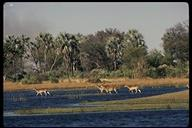antelope: (29, 84, 52, 99), (123, 82, 143, 93), (99, 83, 118, 94)
sky: (5, 4, 188, 22)
tree: (6, 33, 34, 80), (35, 30, 58, 77), (104, 35, 128, 74)
water: (5, 116, 188, 126), (55, 89, 95, 104)
